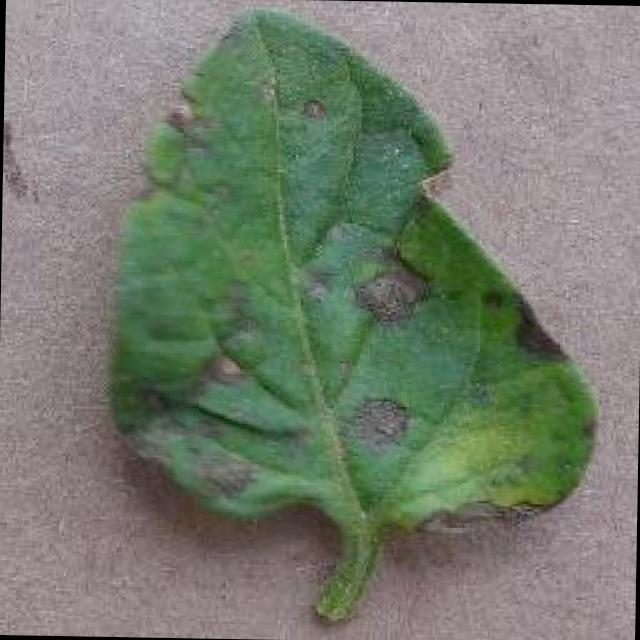Tomato Early blight leaf: (108, 8, 605, 543)
